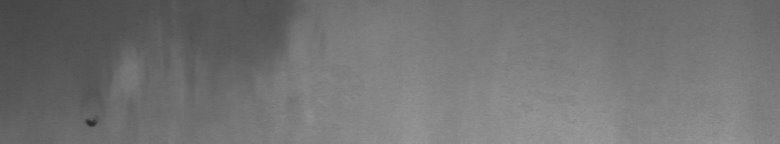fi: (81, 112, 99, 136)
